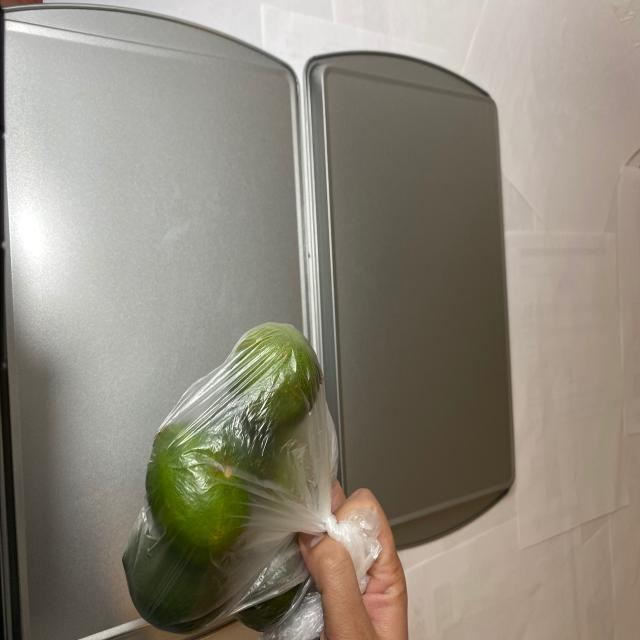lemon: (119, 323, 336, 632)
